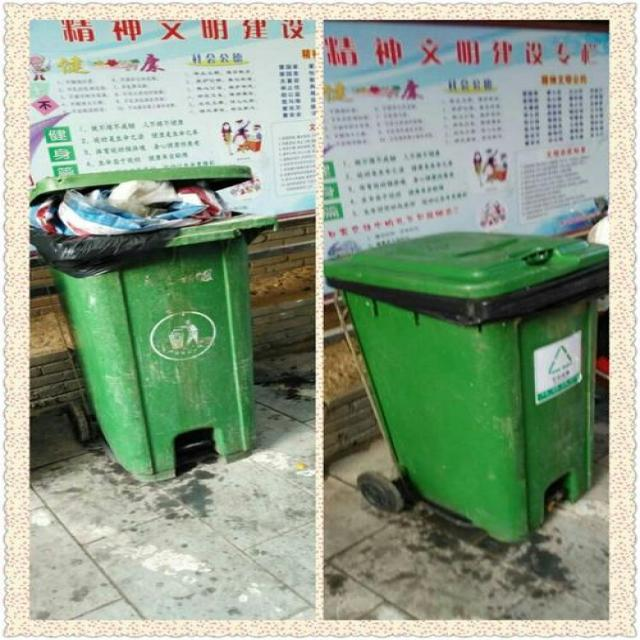garbage_bin: (325, 232, 608, 540)
overflow: (29, 165, 274, 480)
